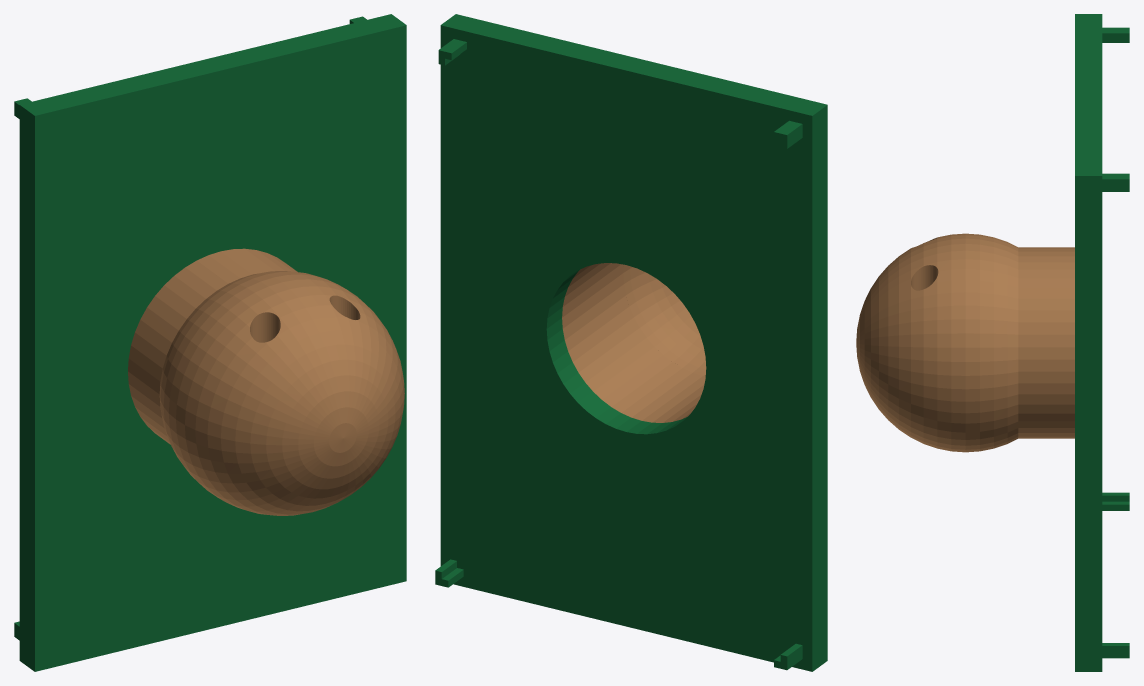
Rendered from tinker.obj.
3 renders of one model, left to right at view 1: azimuth 30°, elevation 25°; view 2: azimuth 150°, elevation 25°; view 3: azimuth 270°, elevation 25°, orthographic. The views are drawn at different scales.
Visible parts, largest first — view 1: group_0_1206582, group_0_11107152; view 2: group_0_1206582, group_0_11107152; view 3: group_0_11107152, group_0_1206582.
Part boxes in pixels (x1,y1,x2,y2): group_0_1206582: [14, 14, 406, 671]; group_0_11107152: [128, 248, 404, 515]; group_0_1206582: [435, 14, 827, 671]; group_0_11107152: [562, 263, 706, 422]; group_0_11107152: [856, 233, 1074, 452]; group_0_1206582: [1075, 14, 1129, 671].
Size of the model in its own units: 14 by 20 by 10.
